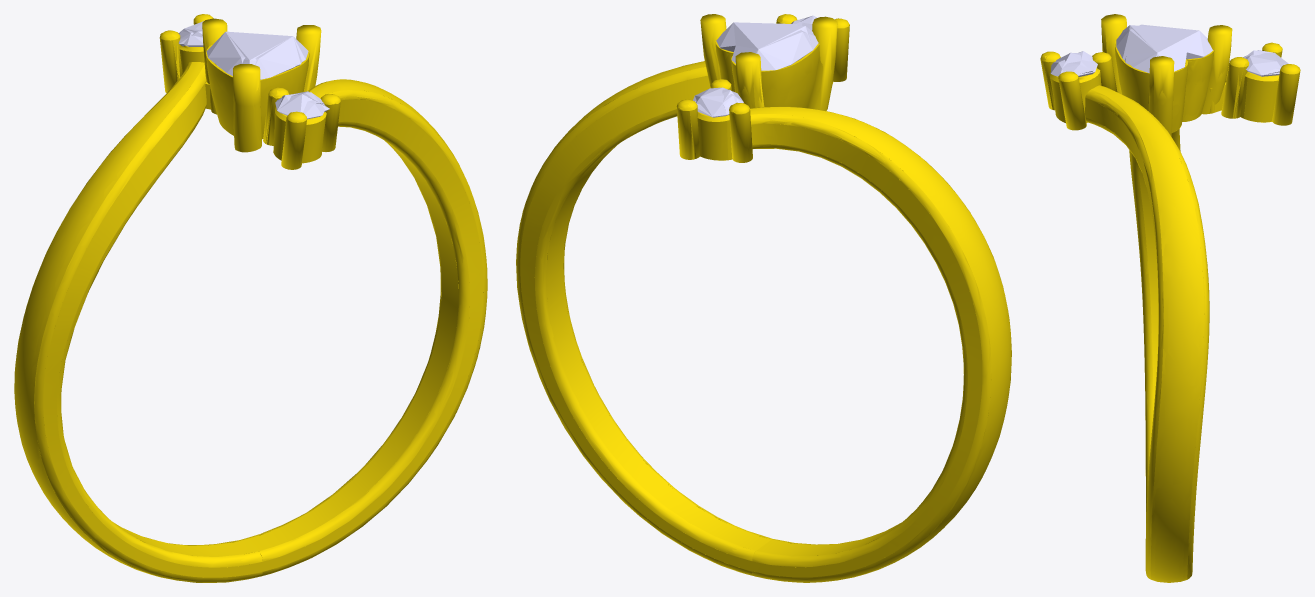
File: DLR-D000675707.glb
3 views of the same model, side by side, from view 1: azimuth 30°, elevation 25°; view 2: azimuth 150°, elevation 25°; view 3: azimuth 270°, elevation 25° (orthographic). The views are drawn at different scales.
Parts seen in each view (by area): view 1: highPolyMesh, lowPolyMesh; view 2: highPolyMesh, lowPolyMesh; view 3: highPolyMesh, lowPolyMesh.
Part boxes in pixels (bbox=[...]): highPolyMesh: bbox=[14, 14, 487, 582]; lowPolyMesh: bbox=[14, 14, 487, 582]; highPolyMesh: bbox=[516, 14, 1011, 582]; lowPolyMesh: bbox=[516, 14, 1011, 582]; highPolyMesh: bbox=[1040, 14, 1300, 582]; lowPolyMesh: bbox=[1041, 14, 1300, 582].
Bounding box in the file's own units: 0.0198 × 0.0216 × 0.00971.
